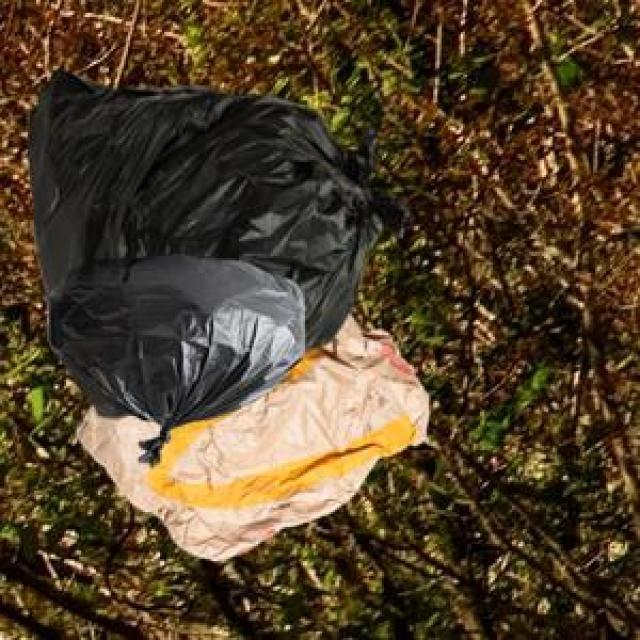miscellaneous trash: (24, 66, 408, 414), (43, 250, 301, 463)
paper: (73, 309, 425, 557)
